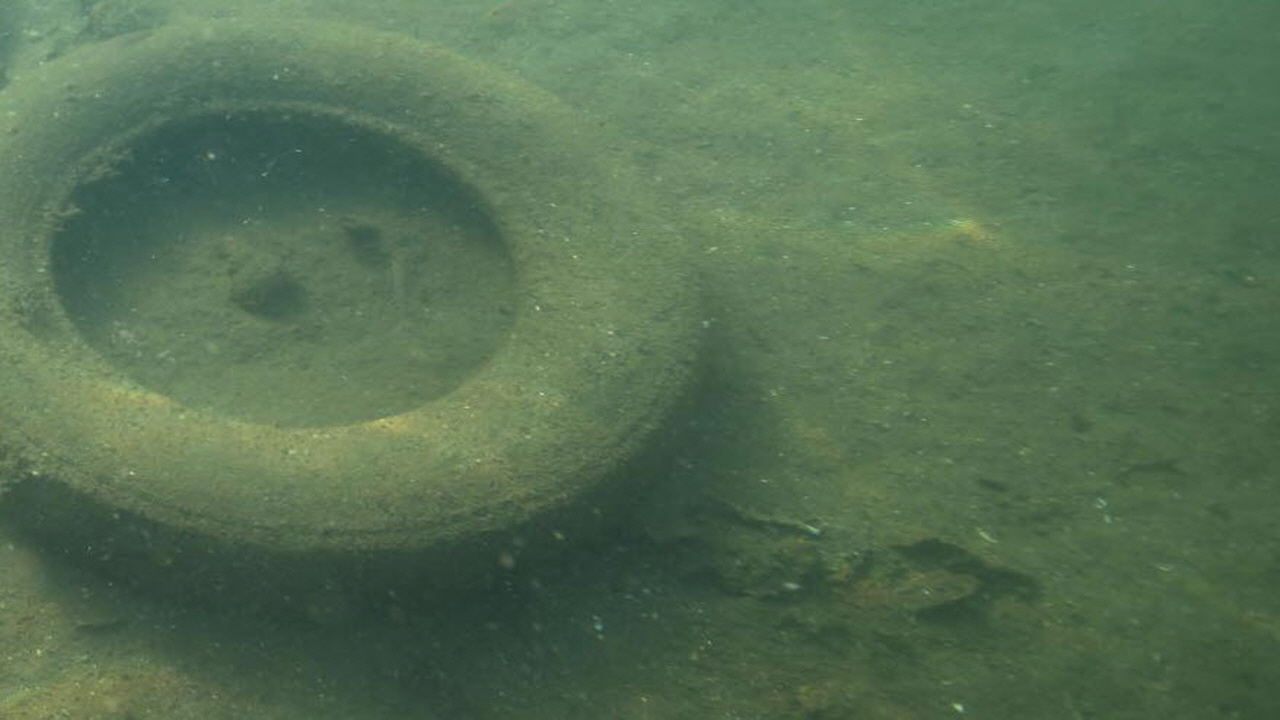tire: (0, 17, 704, 612)
